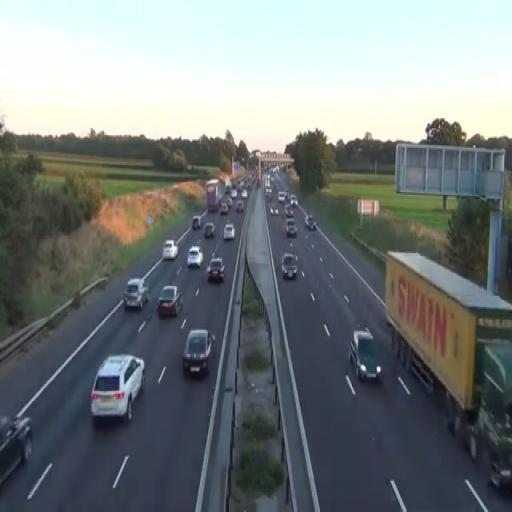Car: (90, 354, 146, 424), (0, 412, 33, 486), (348, 329, 382, 384), (182, 328, 214, 377), (157, 284, 184, 318), (123, 277, 150, 310), (206, 257, 226, 283), (282, 252, 298, 280), (186, 246, 204, 269), (162, 239, 179, 260), (223, 223, 235, 241), (204, 223, 215, 238)
Truck: (384, 251, 512, 497), (206, 179, 221, 212)
